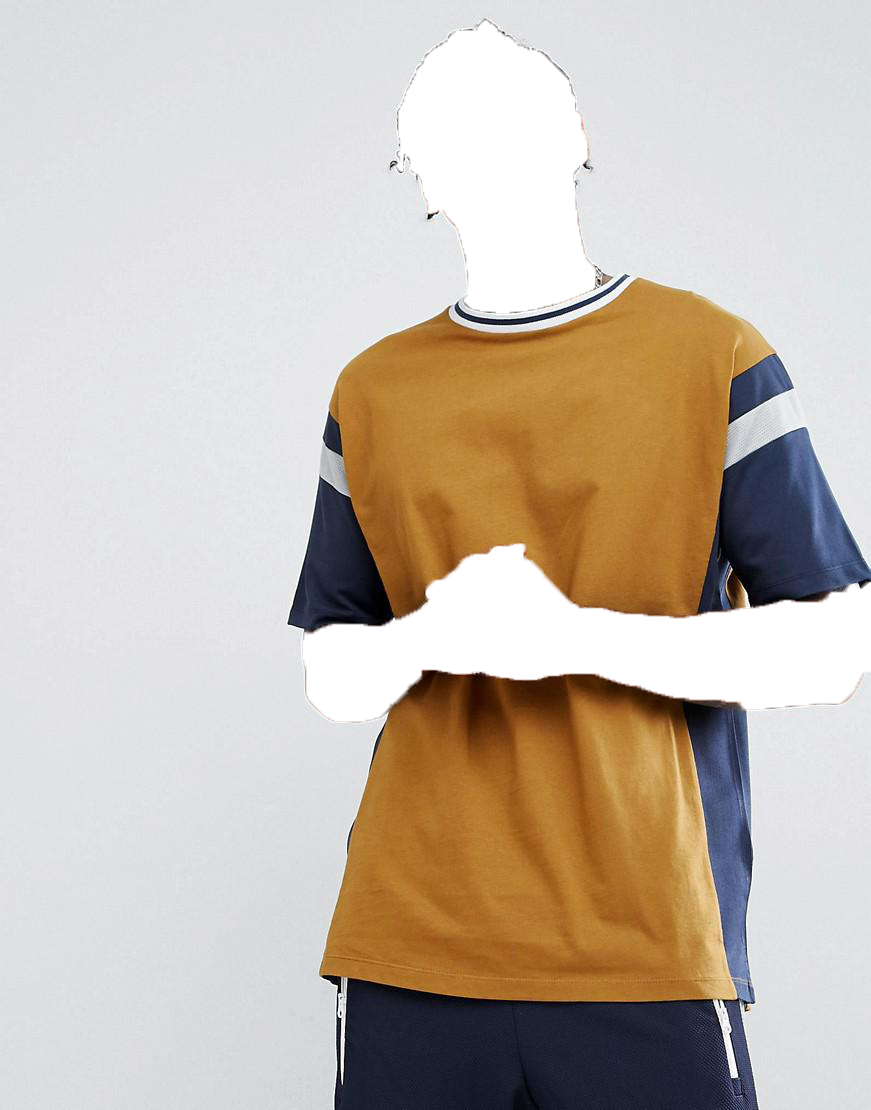teeshirt: (268, 271, 871, 1011)
